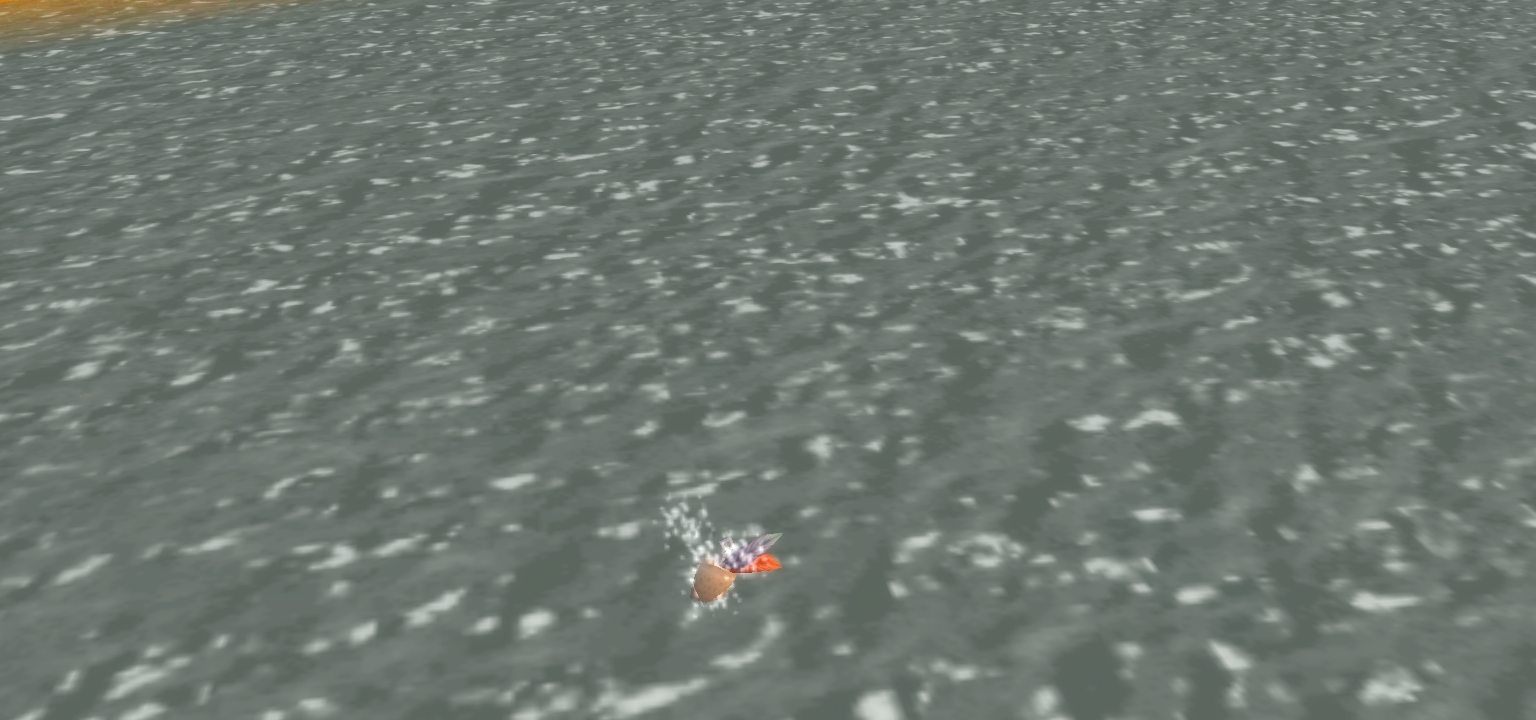Splash: (690, 529, 784, 602)
